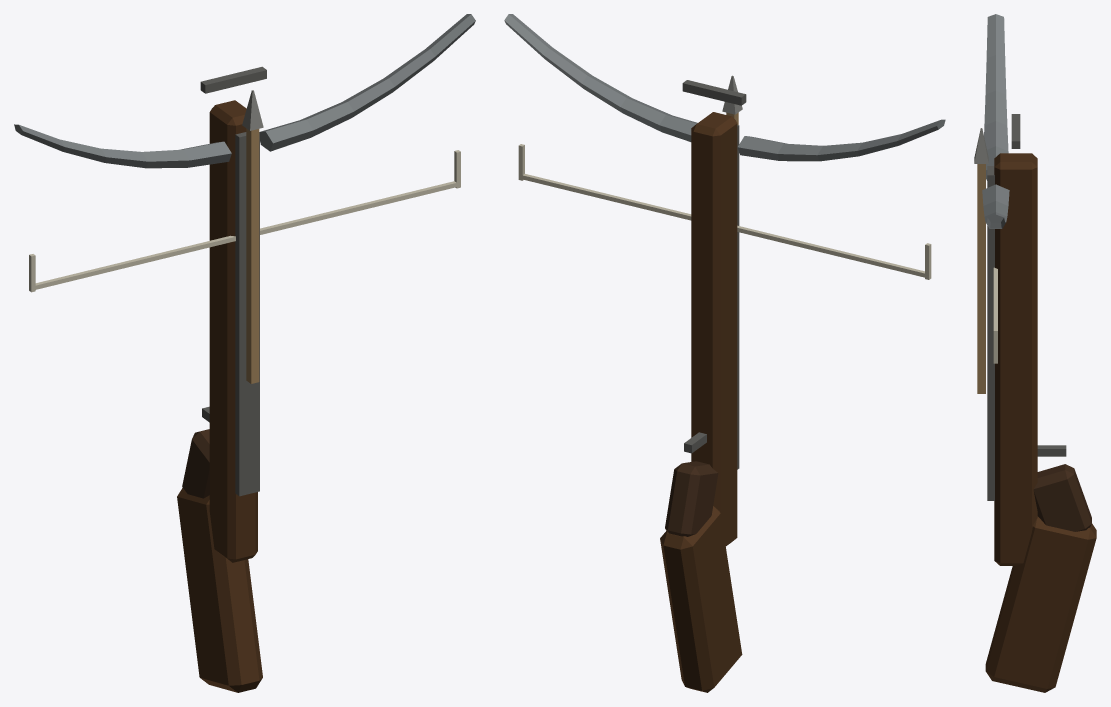
Rendered from besta.glb.
3 views of the same model, side by side, from view 1: azimuth 30°, elevation 25°; view 2: azimuth 150°, elevation 25°; view 3: azimuth 270°, elevation 25° (orthographic). The views are drawn at different scales.
Parts seen in each view (by area): view 1: besta.001; view 2: besta.001; view 3: besta.001.
Boxes of the visible parts, left/top/right/bottom form: besta.001: left=14, top=14, right=475, bottom=692; besta.001: left=504, top=14, right=945, bottom=692; besta.001: left=974, top=14, right=1096, bottom=692.
Size of the model in its own units: 0.66 by 0.8818 by 0.1701.
